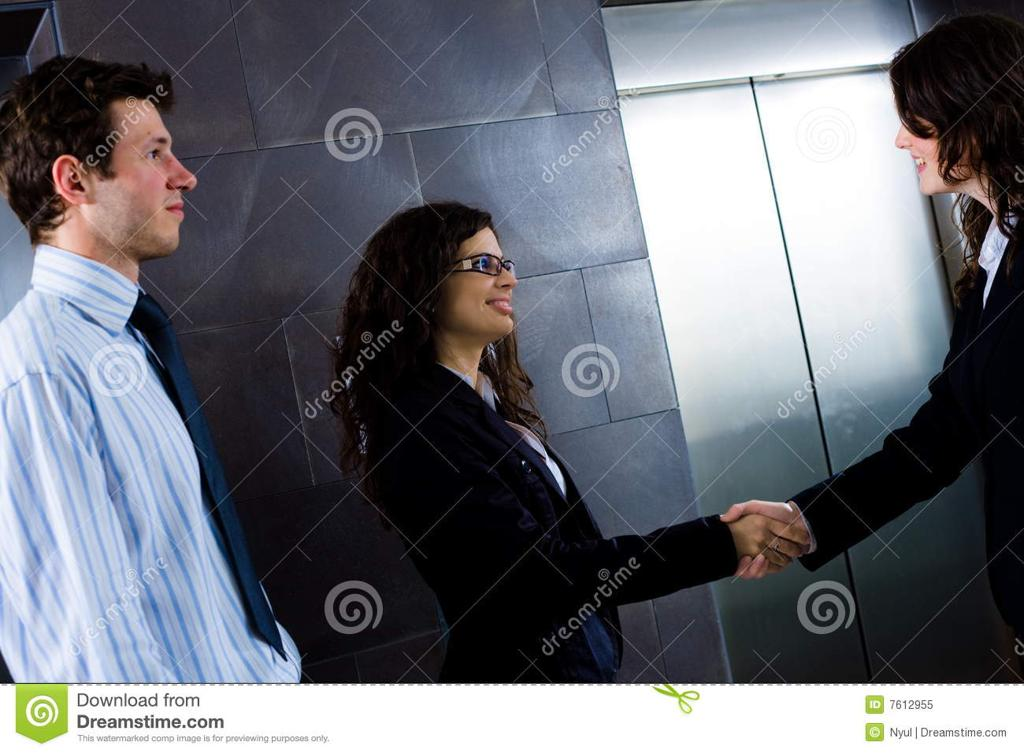face: (94, 100, 194, 250), (896, 66, 978, 192), (442, 218, 516, 336)
